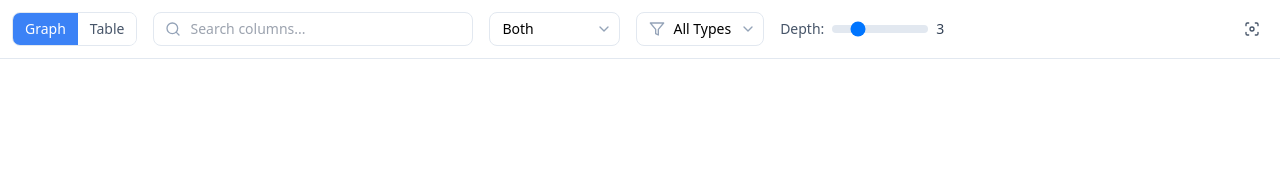
Toolbar › TC-COMP-019a: Asset Type Filter Dropdown › opens dropdown when filter button is clicked
Step 1. Click the button with test id "asset-type-filter-btn" → (700, 29), box x1=636 y1=12 x2=764 y2=46
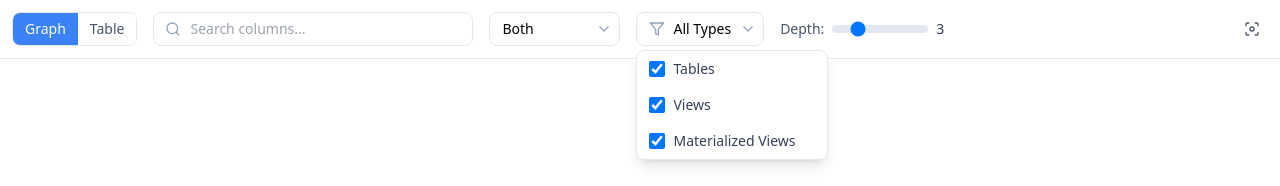
Check: the checkbox with test id "filter-tables-checkbox" is shown, box x1=650 y1=61 x2=666 y2=77
Check: the checkbox with test id "filter-views-checkbox" is shown, box x1=650 y1=97 x2=666 y2=113
Check: the checkbox with test id "filter-materialized-views-checkbox" is shown, box x1=650 y1=133 x2=666 y2=149
